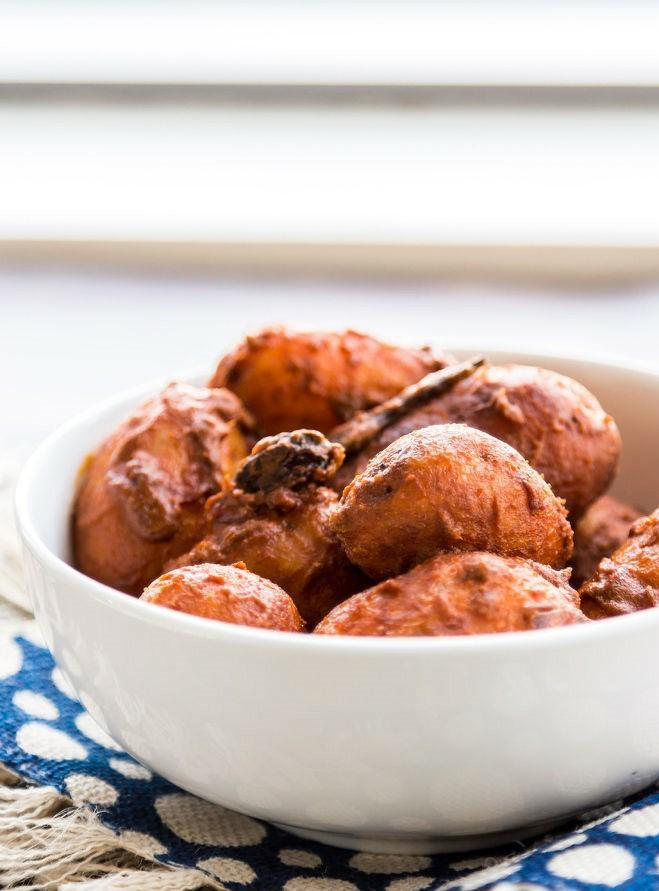DumAloo: (72, 317, 659, 635)
